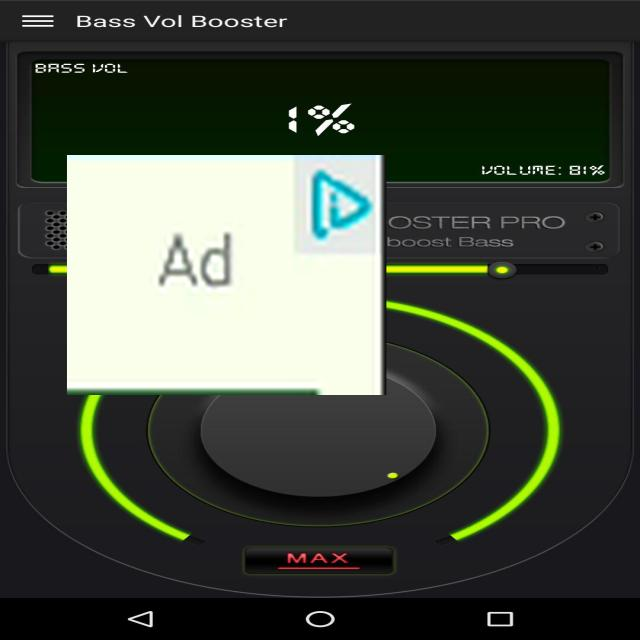sneaking: (67, 155, 386, 395)
